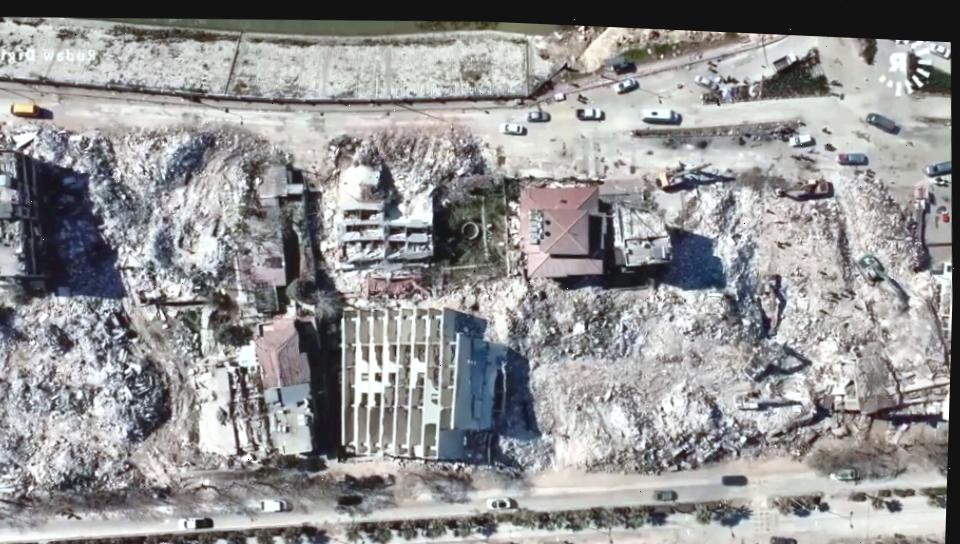kapali: (114, 99, 303, 173), (307, 107, 506, 175)
